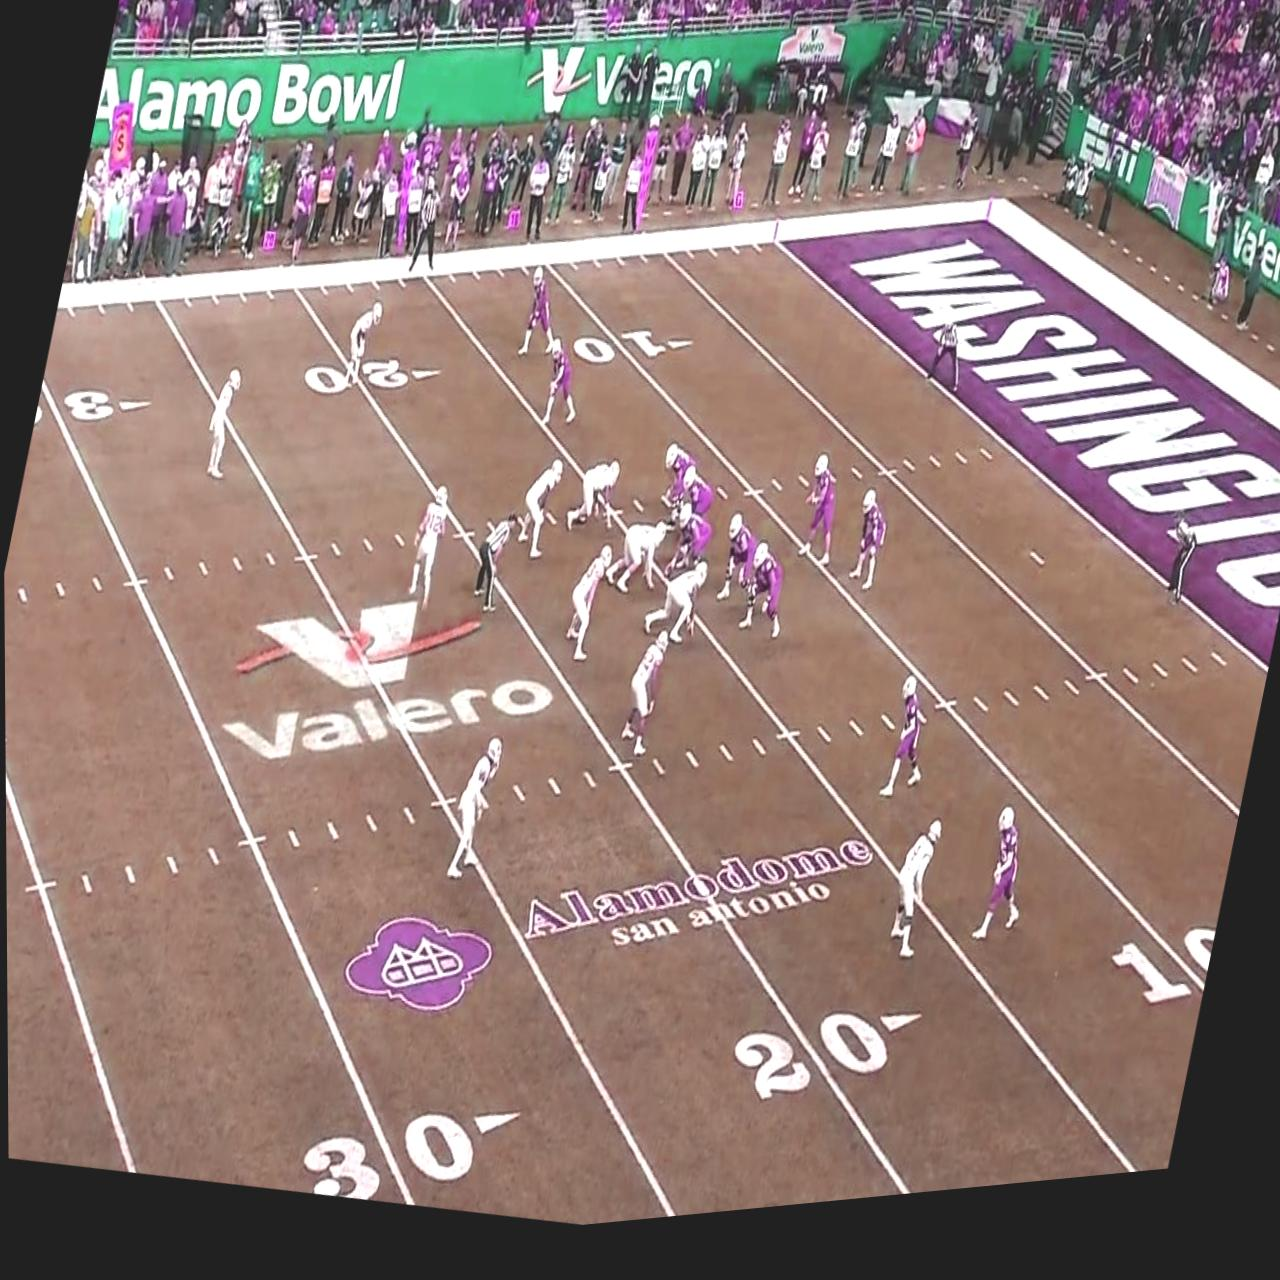10R: (1099, 930, 1216, 1042), (568, 319, 697, 397)
20R: (721, 993, 924, 1150), (298, 343, 444, 429)
30R: (293, 1076, 523, 1241), (33, 374, 155, 455)
